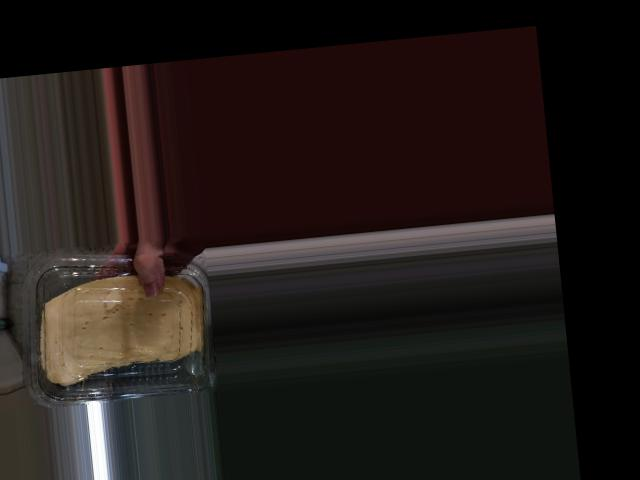cheese: (14, 258, 220, 410)
